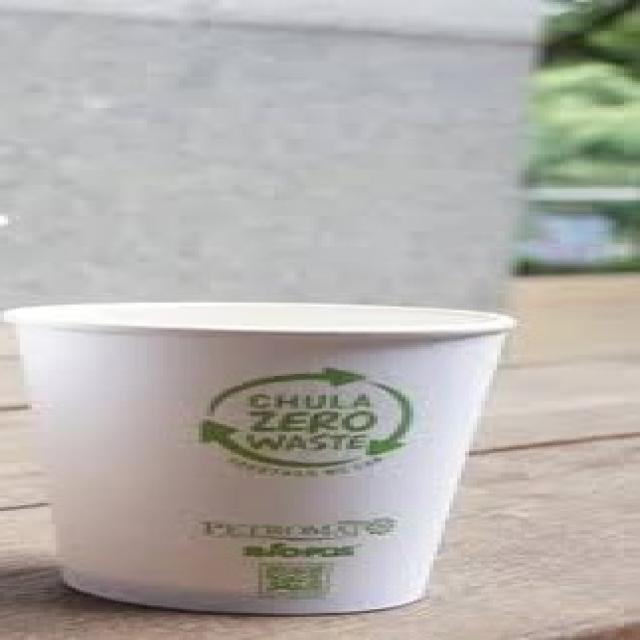plastic cup: (0, 291, 553, 617)
